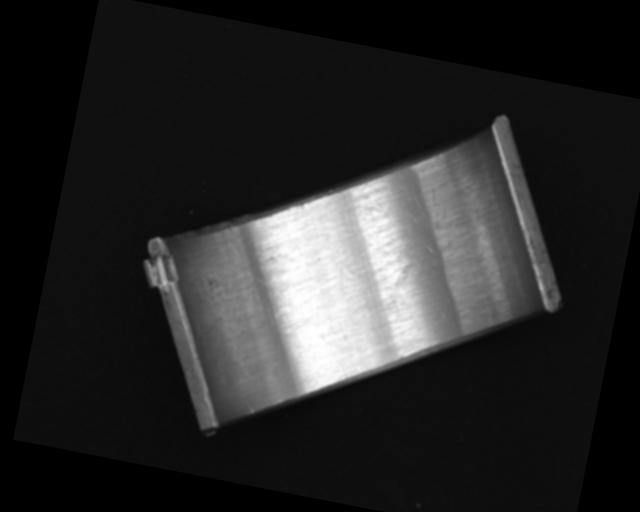nick: (243, 399, 255, 414)
